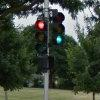Traffic light: (26, 11, 76, 66)
